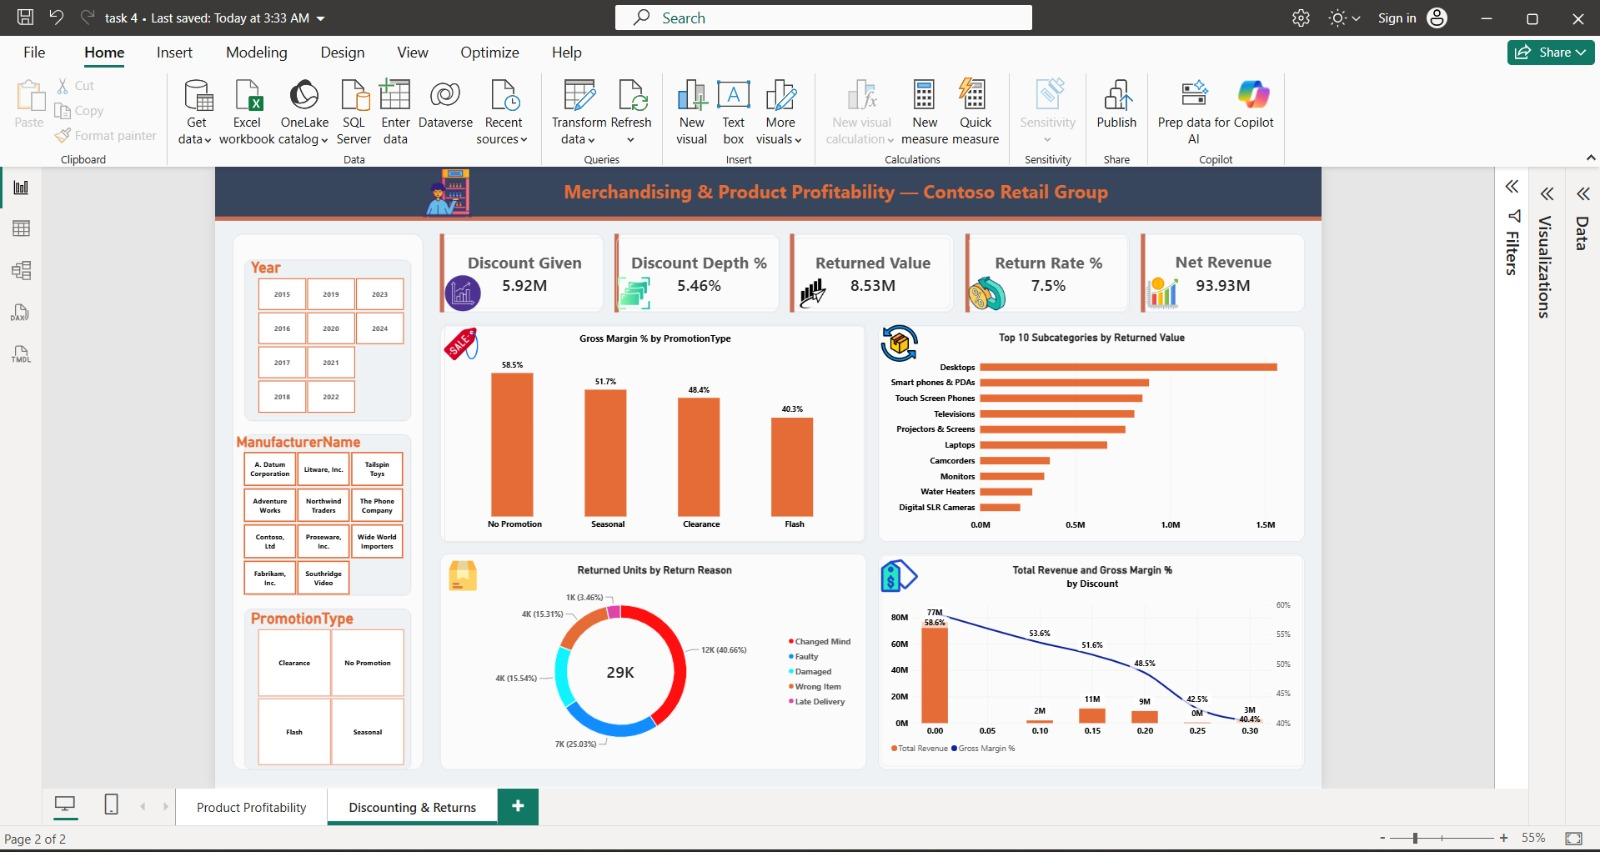

This screenshot's page, from the dashboard's own definition file:
{"tool":"powerbi","page":{"name":"Discounting & Returns","canvas":[1920,1080],"ordinal":1},"visuals":[{"type":"cardVisual","fields":{"Data":["_Measures.Net Revenue"]},"box":[1611.7,123.5,277.9,123.5],"z":0},{"type":"cardVisual","fields":{"Data":["_Measures.Return Rate %"]},"box":[1309.1,123.5,277.9,123.5],"z":1000},{"type":"cardVisual","fields":{"Data":["_Measures.Returned Value"]},"box":[1006.5,123.5,271.7,123.5],"z":2000},{"type":"cardVisual","fields":{"Data":["_Measures.Discount Depth %"]},"box":[696.7,123.1,286.1,123.5],"z":3000},{"type":"cardVisual","fields":{"Data":["_Measures.Discount Given"]},"box":[397.3,123.5,277.9,123.5],"z":4000},{"type":"clusteredColumnChart","fields":{"Category":["promotion.PromotionType"],"Y":["_Measures.Gross Margin %"]},"box":[397.3,271.7,730.7,380.8],"z":5000},{"type":"clusteredBarChart","title":"Top 10 Subcategories by Returned Value","fields":{"Category":["product.SubCategoryName"],"Y":["_Measures.Returned Value"]},"box":[1156.8,271.7,732.8,380.8],"z":6000},{"type":"donutChart","title":"Returned Units by Return Reason","fields":{"Category":["returns.ReturnReason"],"Y":["_Measures.Returned Units"]},"box":[397.3,675.1,730.7,366.4],"z":7000},{"type":"lineClusteredColumnComboChart","fields":{"Category":["promotion.Discount"],"Y":["_Measures.Total Revenue"],"Y2":["_Measures.Gross Margin %"]},"box":[1156.8,675.1,732.8,366.4],"z":8000},{"type":"slicer","fields":{"Values":["Date.Year"]},"box":[53.5,158.5,292.3,269.6],"z":9000},{"type":"slicer","fields":{"Values":["promotion.PromotionType"]},"box":[53.5,769.8,292.3,271.7],"z":10000},{"type":"slicer","fields":{"Values":["manufacturer.ManufacturerName"]},"box":[28.8,463.1,317,282],"z":11000},{"type":"textbox","box":[586.6,20.6,983.9,88.5],"z":12000},{"type":"image","box":[397.3,185.2,63.8,70],"z":13000},{"type":"image","box":[1156.8,675.1,63.8,70],"z":14000},{"type":"image","box":[397.3,675.1,63.8,70],"z":15000},{"type":"image","box":[1156.8,271.7,63.8,70],"z":16000},{"type":"image","box":[395.2,271.7,63.8,70],"z":17000},{"type":"image","box":[695.7,185.2,63.8,70],"z":18000},{"type":"image","box":[1006.5,185.2,63.8,70],"z":19000},{"type":"image","box":[1309.1,185.2,63.8,70],"z":20000},{"type":"image","box":[1611.7,185.2,63.8,70],"z":21000},{"type":"image","box":[345.8,0,115.3,90.6],"z":21001}]}

Visuals, with their boxes on the page's 1920x1080 design canvas (x1, y1, x2, y2). These are canvas units, not pixel positions in the 1600x852 screenshot, which may show the page scaled, cropped or inside an application window:
cardVisual - _Measures.Net Revenue: <region>1612, 124, 1890, 247</region>
cardVisual - _Measures.Return Rate %: <region>1309, 124, 1587, 247</region>
cardVisual - _Measures.Returned Value: <region>1006, 124, 1278, 247</region>
cardVisual - _Measures.Discount Depth %: <region>697, 123, 983, 247</region>
cardVisual - _Measures.Discount Given: <region>397, 124, 675, 247</region>
clusteredColumnChart - promotion.PromotionType x _Measures.Gross Margin %: <region>397, 272, 1128, 652</region>
"Top 10 Subcategories by Returned Value" clusteredBarChart: <region>1157, 272, 1890, 652</region>
"Returned Units by Return Reason" donutChart: <region>397, 675, 1128, 1042</region>
lineClusteredColumnComboChart - promotion.Discount x _Measures.Total Revenue: <region>1157, 675, 1890, 1042</region>
slicer - Date.Year: <region>54, 158, 346, 428</region>
slicer - promotion.PromotionType: <region>54, 770, 346, 1042</region>
slicer - manufacturer.ManufacturerName: <region>29, 463, 346, 745</region>
textbox: <region>587, 21, 1570, 109</region>
image: <region>397, 185, 461, 255</region>
image: <region>1157, 675, 1221, 745</region>
image: <region>397, 675, 461, 745</region>
image: <region>1157, 272, 1221, 342</region>
image: <region>395, 272, 459, 342</region>
image: <region>696, 185, 760, 255</region>
image: <region>1006, 185, 1070, 255</region>
image: <region>1309, 185, 1373, 255</region>
image: <region>1612, 185, 1676, 255</region>
image: <region>346, 0, 461, 91</region>
